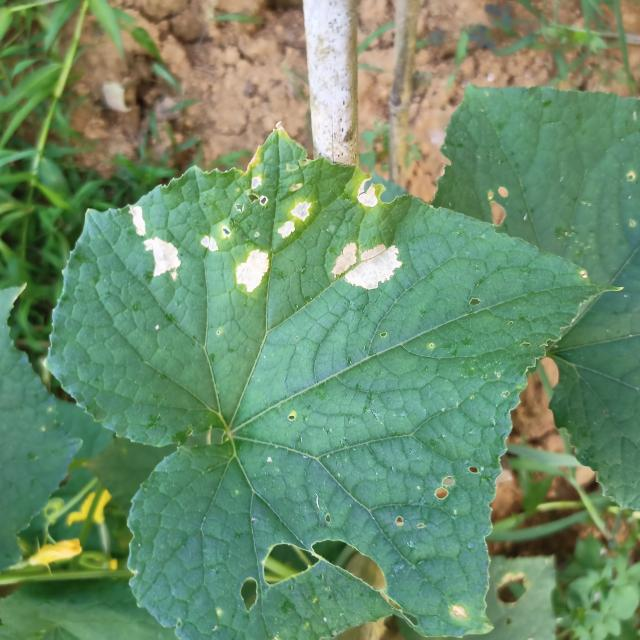disease_cucumber: (193, 172, 318, 296), (324, 235, 415, 298), (120, 205, 184, 286), (346, 172, 389, 218)
